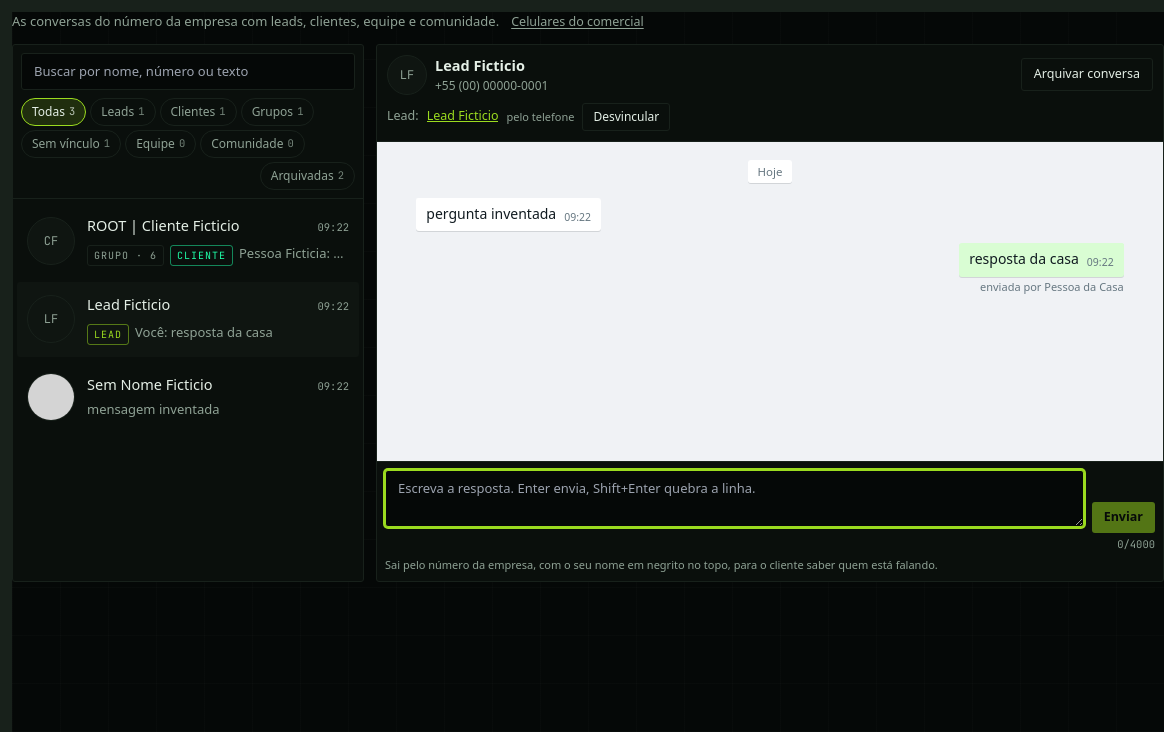
Test: caixa de WhatsApp: abrir, ler, responder, arquivar › a falha do envio aparece ao lado da caixa, e o texto fica
Type "oi" into the text box with test id "caixa-resposta" at point(734, 498), box [385, 470, 1084, 527]
Then press Enter
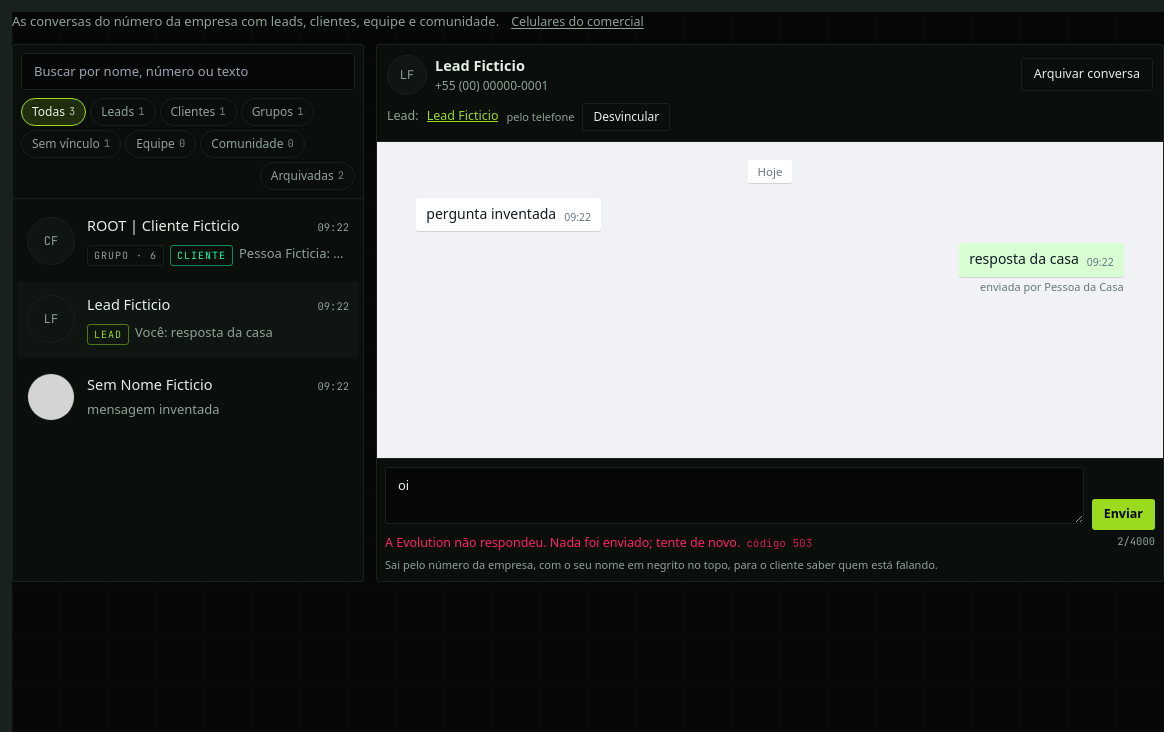
Check: the text "Nada foi enviado" is shown, box [385, 534, 740, 551]
